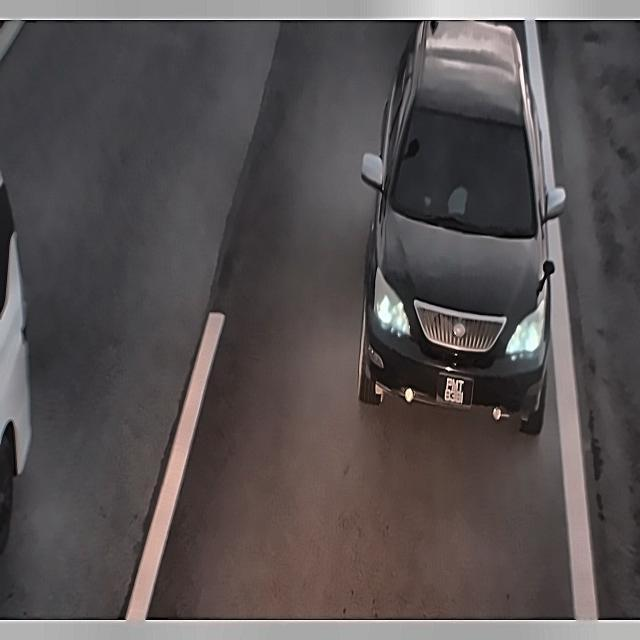car: (434, 370, 481, 415)
